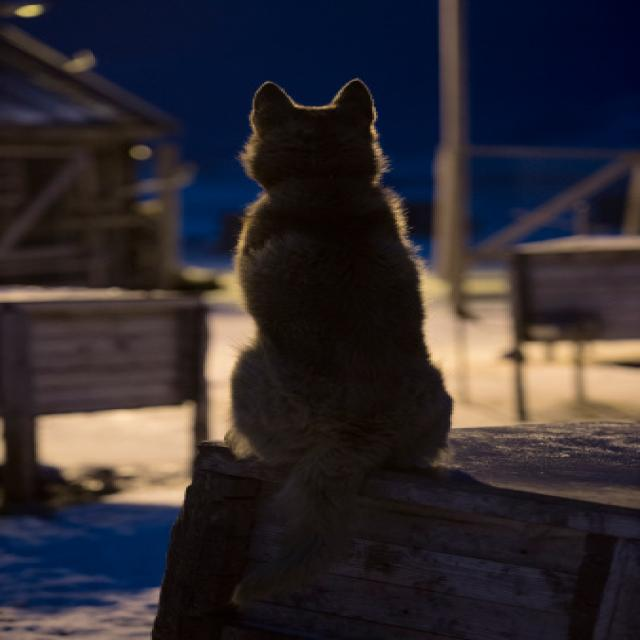dog: (157, 65, 469, 574)
